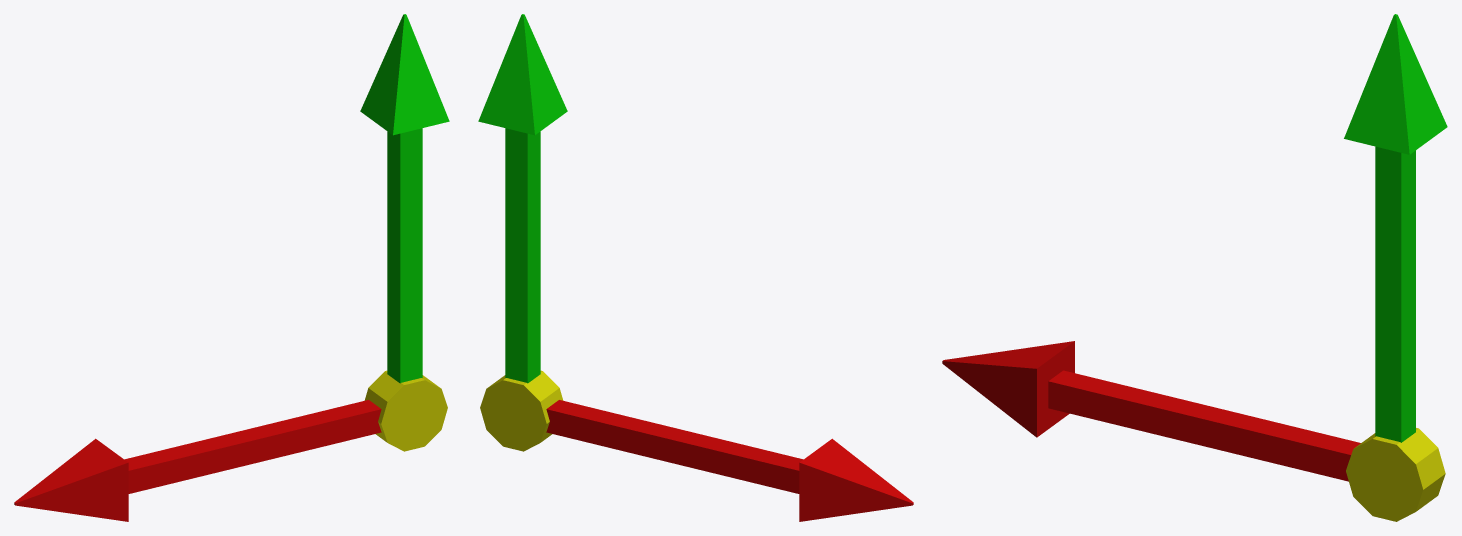
File: Move2DGizmo.fbx
3 views of the same model, side by side, from view 1: azimuth 30°, elevation 25°; view 2: azimuth 150°, elevation 25°; view 3: azimuth 330°, elevation 25° (orthographic). The views are drawn at different scales.
Visible parts, largest first — view 1: GizmoXAxis, GizmoYAxis, GizmoCenter; view 2: GizmoXAxis, GizmoYAxis, GizmoCenter; view 3: GizmoYAxis, GizmoXAxis, GizmoCenter.
Boxes of the visible parts, <box> form: GizmoXAxis: <box>14,400,381,521</box>; GizmoYAxis: <box>360,14,449,383</box>; GizmoCenter: <box>364,370,447,451</box>; GizmoXAxis: <box>546,400,913,521</box>; GizmoYAxis: <box>478,14,567,383</box>; GizmoCenter: <box>480,370,563,451</box>; GizmoYAxis: <box>1344,14,1447,442</box>; GizmoXAxis: <box>942,341,1360,481</box>; GizmoCenter: <box>1346,428,1445,521</box>.
Bounding box in the file's own units: 19.03 × 18.35 × 2.55.
